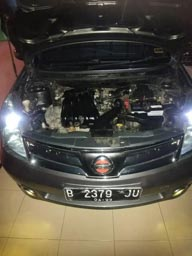plat: (66, 186, 140, 198)
